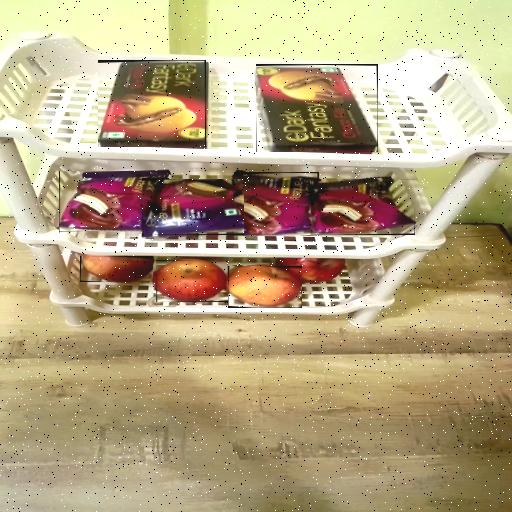Apple: (228, 266, 302, 308), (156, 260, 228, 302), (80, 256, 153, 282)
Choco Fills: (256, 64, 378, 152), (98, 60, 206, 147)
Choco Pie: (59, 172, 169, 234), (311, 179, 415, 235), (143, 179, 244, 235), (234, 172, 319, 236)
